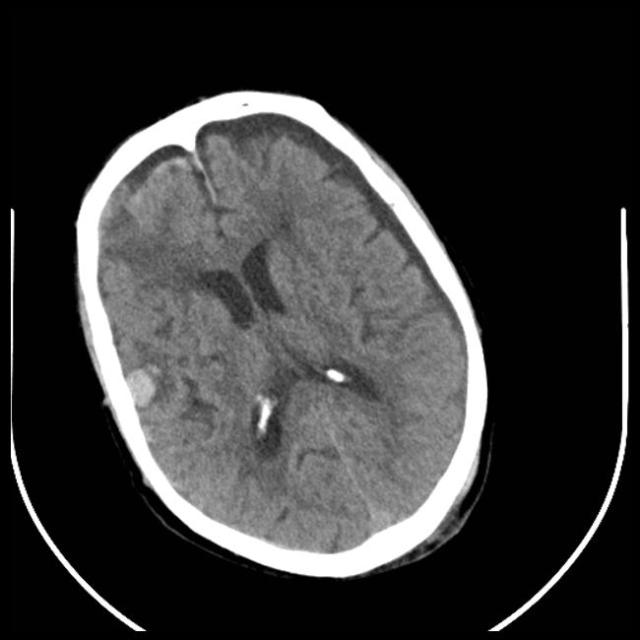lesion: (108, 330, 199, 435)
